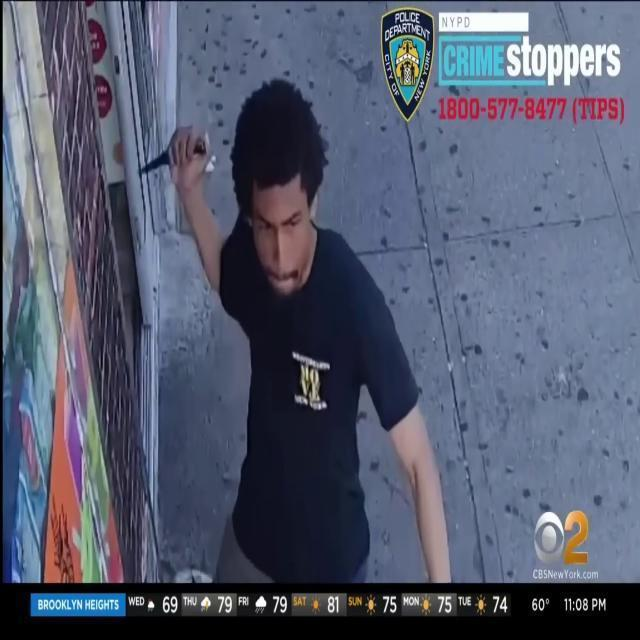Knife: (140, 125, 213, 183)
